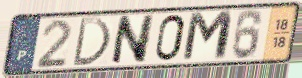0: (153, 13, 187, 64)
2: (36, 17, 73, 70)
6: (230, 8, 263, 62)
D: (70, 16, 113, 68)
M: (180, 9, 236, 64)
N: (109, 13, 157, 67)
